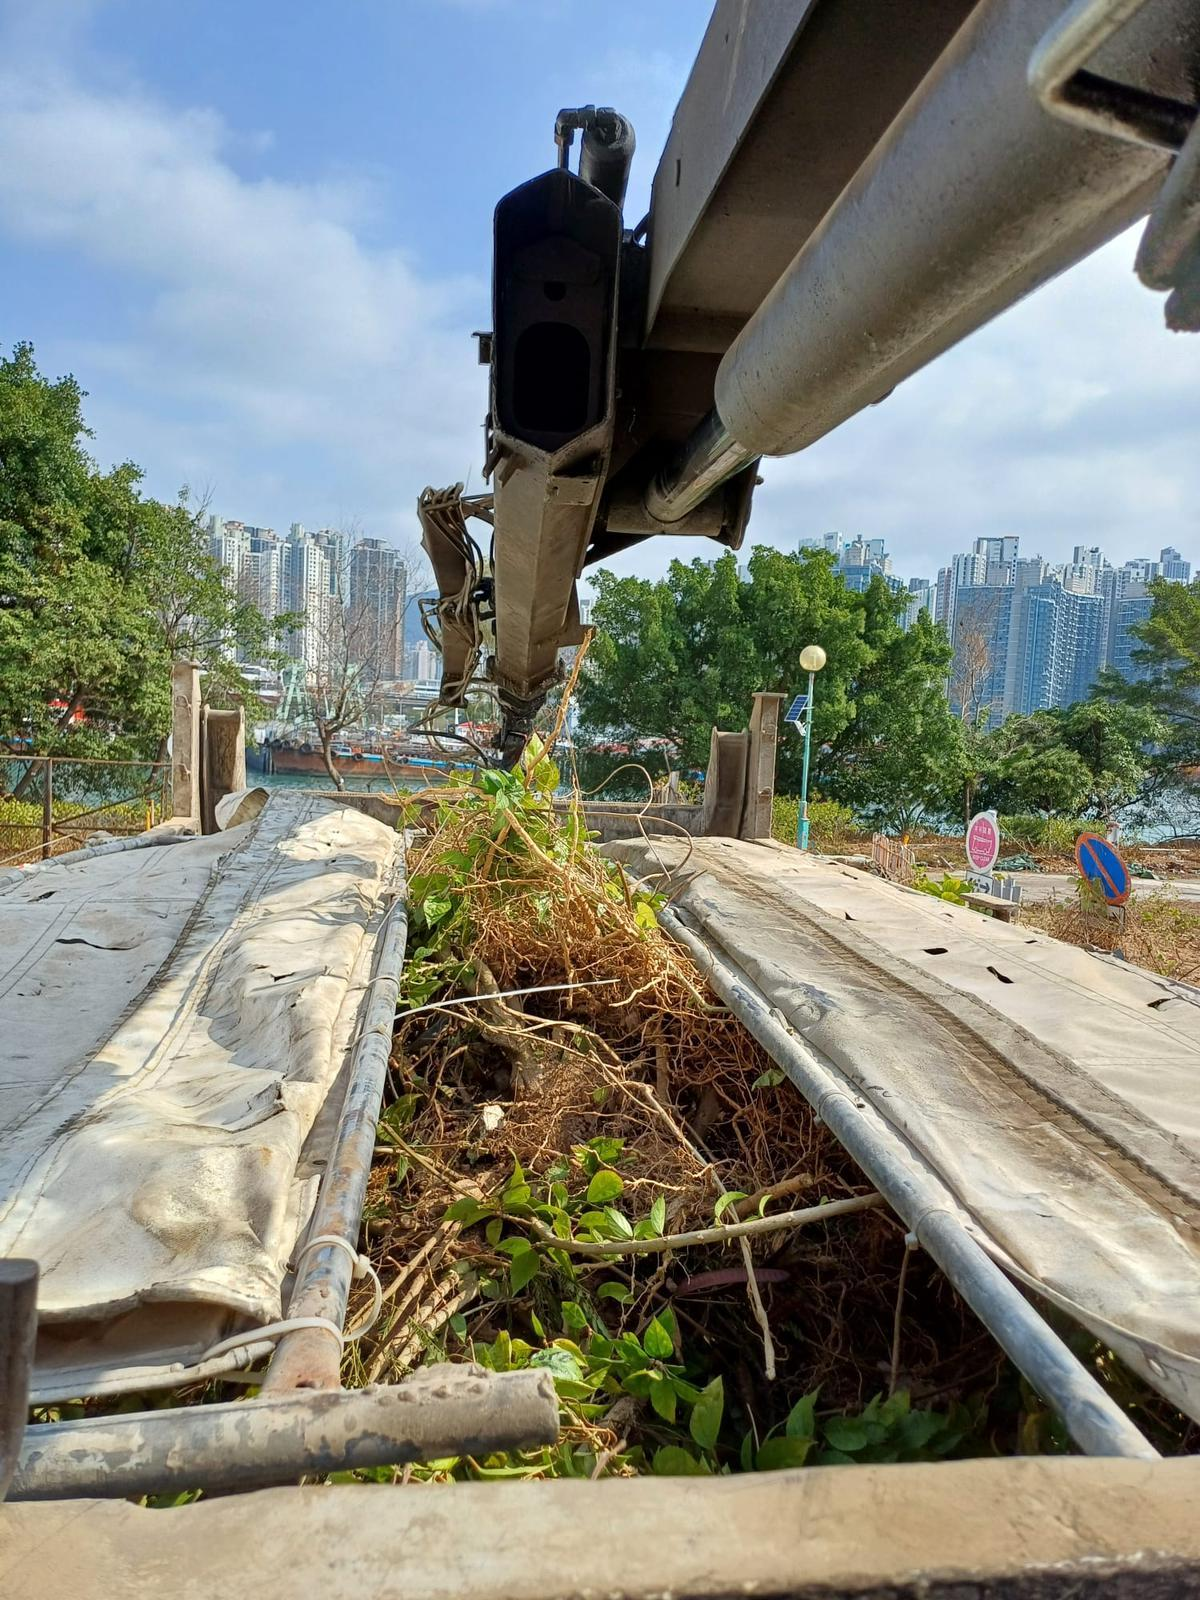dry: (340, 818, 862, 1362)
